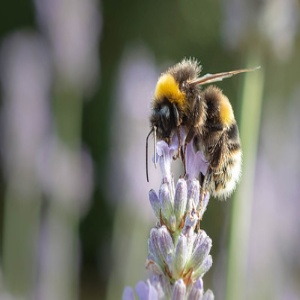bee: (144, 55, 262, 215)
